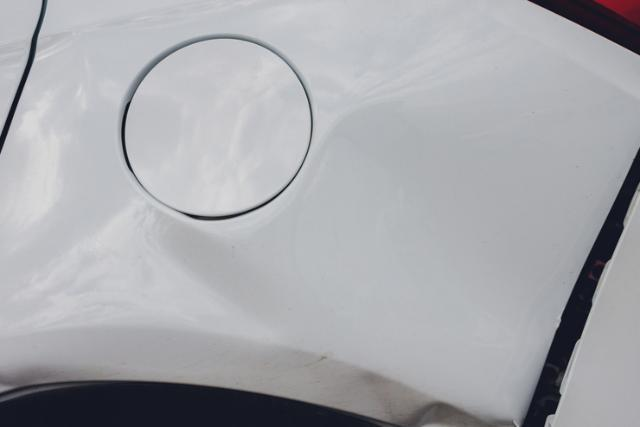Bumper: (551, 160, 638, 427)
Fender: (393, 388, 525, 427)
